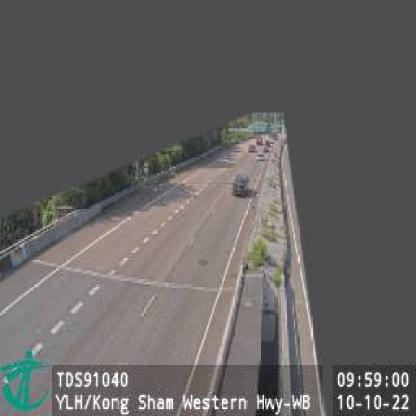Car: (233, 172, 250, 195), (257, 152, 266, 161), (253, 147, 261, 157)
